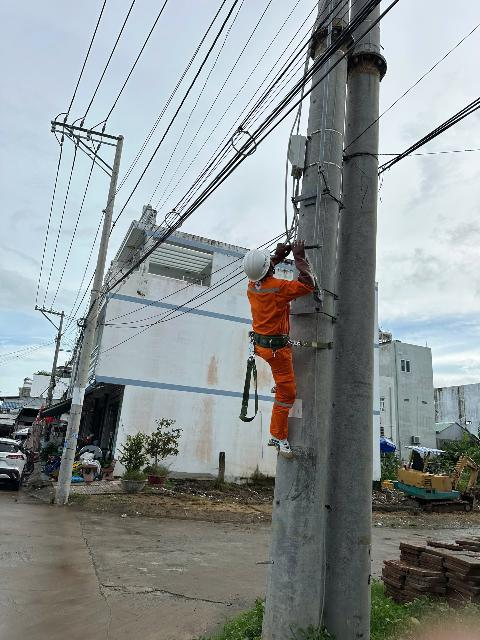gloves: (289, 237, 327, 295), (264, 240, 292, 265)
harness: (239, 320, 314, 352)
helmet: (242, 246, 275, 289)
shoes: (267, 427, 295, 460)
